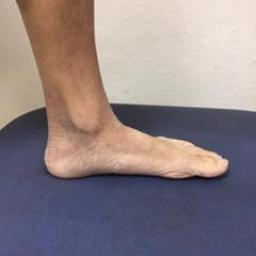Medial View -Left Foot-: (35, 83, 234, 192)
